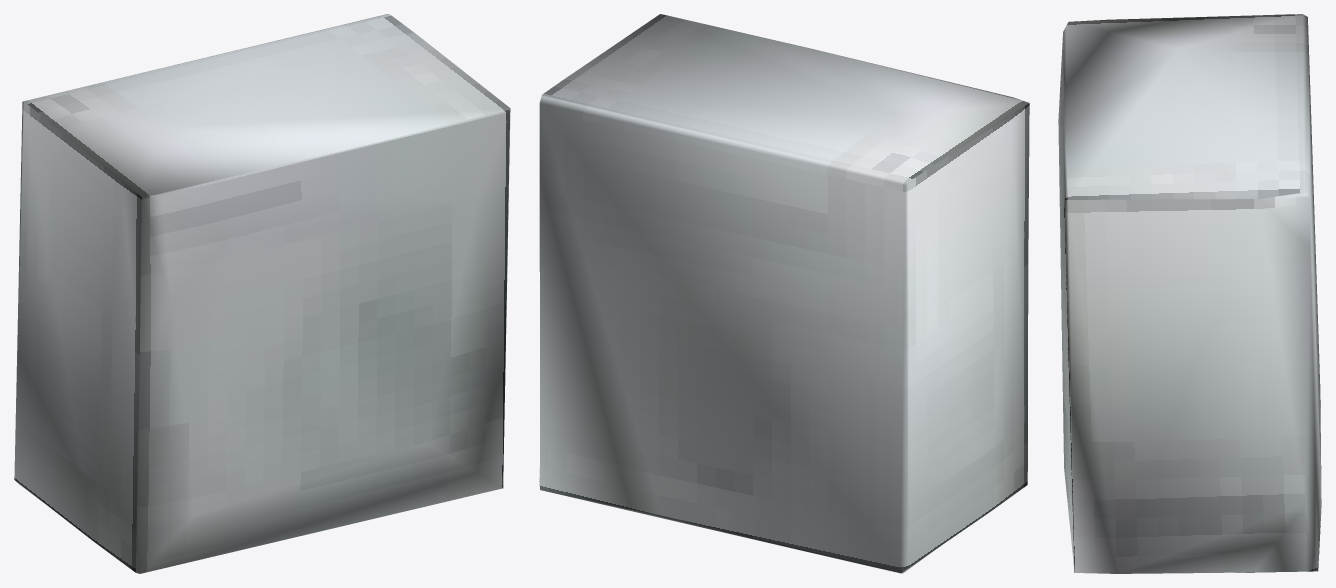
Rendered from Perricone_MD_OVM-low.glb.
3 renders of one model, left to right at view 1: azimuth 30°, elevation 25°; view 2: azimuth 150°, elevation 25°; view 3: azimuth 270°, elevation 25°, orthographic.
Visible parts, largest first — view 1: Perricone_MD_OVM; view 2: Perricone_MD_OVM; view 3: Perricone_MD_OVM.
Boxes of the visible parts, bbox=[...] form: Perricone_MD_OVM: bbox=[14, 14, 510, 573]; Perricone_MD_OVM: bbox=[539, 14, 1029, 573]; Perricone_MD_OVM: bbox=[1058, 14, 1321, 573].
Bounding box in the file's own units: 0.1045 × 0.1041 × 0.0644.
Materials: 1 (1 with a texture image).
